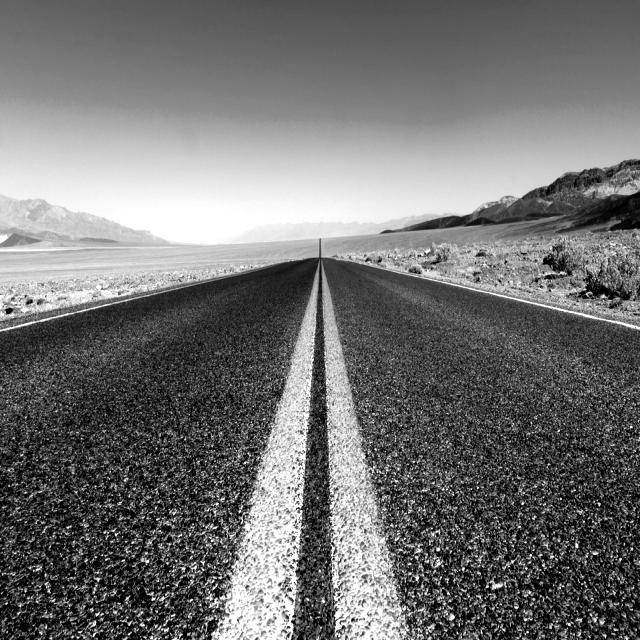cleat: (86, 122, 608, 640)
